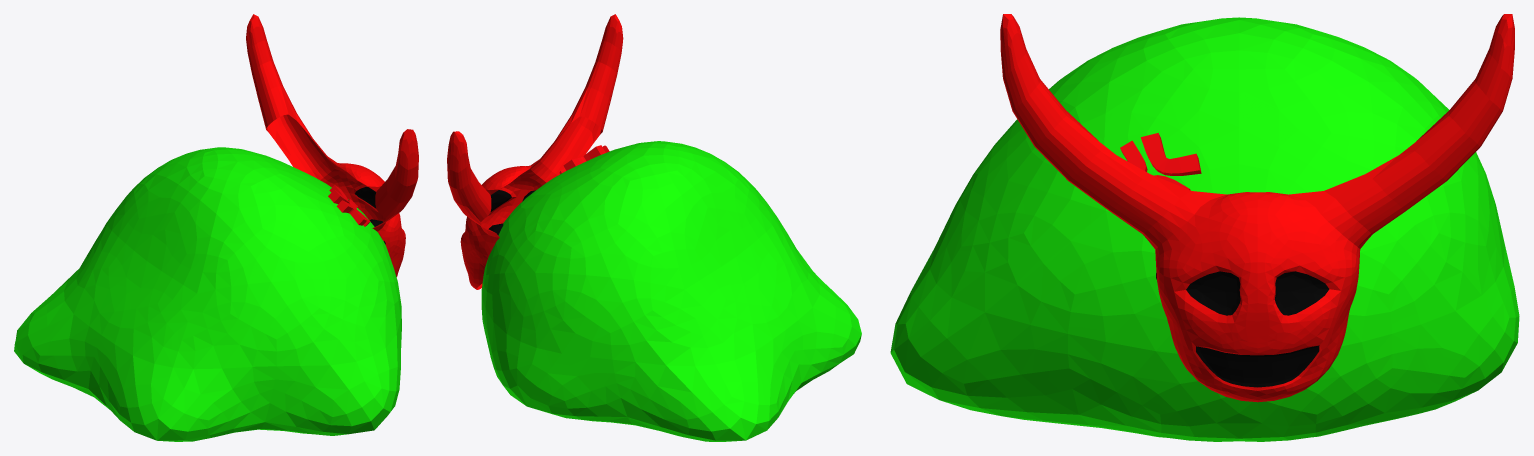
The model's file is SlimeMask0.fbx.
The picture shows the model from 3 angles, left to right: view 1: azimuth 30°, elevation 25°; view 2: azimuth 150°, elevation 25°; view 3: azimuth 270°, elevation 25°; orthographic projection. The views are drawn at different scales.
Visible parts, largest first — view 1: SLIME.001; view 2: SLIME.001; view 3: SLIME.001.
Boxes of the visible parts, x1,y1,x2,y2 form: SLIME.001: (14, 14, 418, 441); SLIME.001: (447, 14, 861, 441); SLIME.001: (890, 14, 1519, 441).
Bounding box in the file's own units: 97.55 × 77.77 × 99.79.
